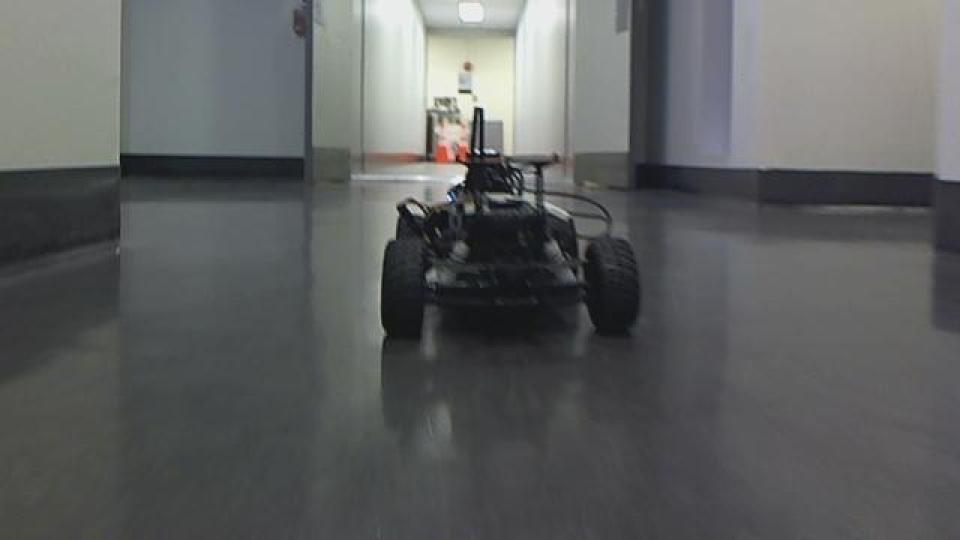car: (375, 105, 643, 343)
